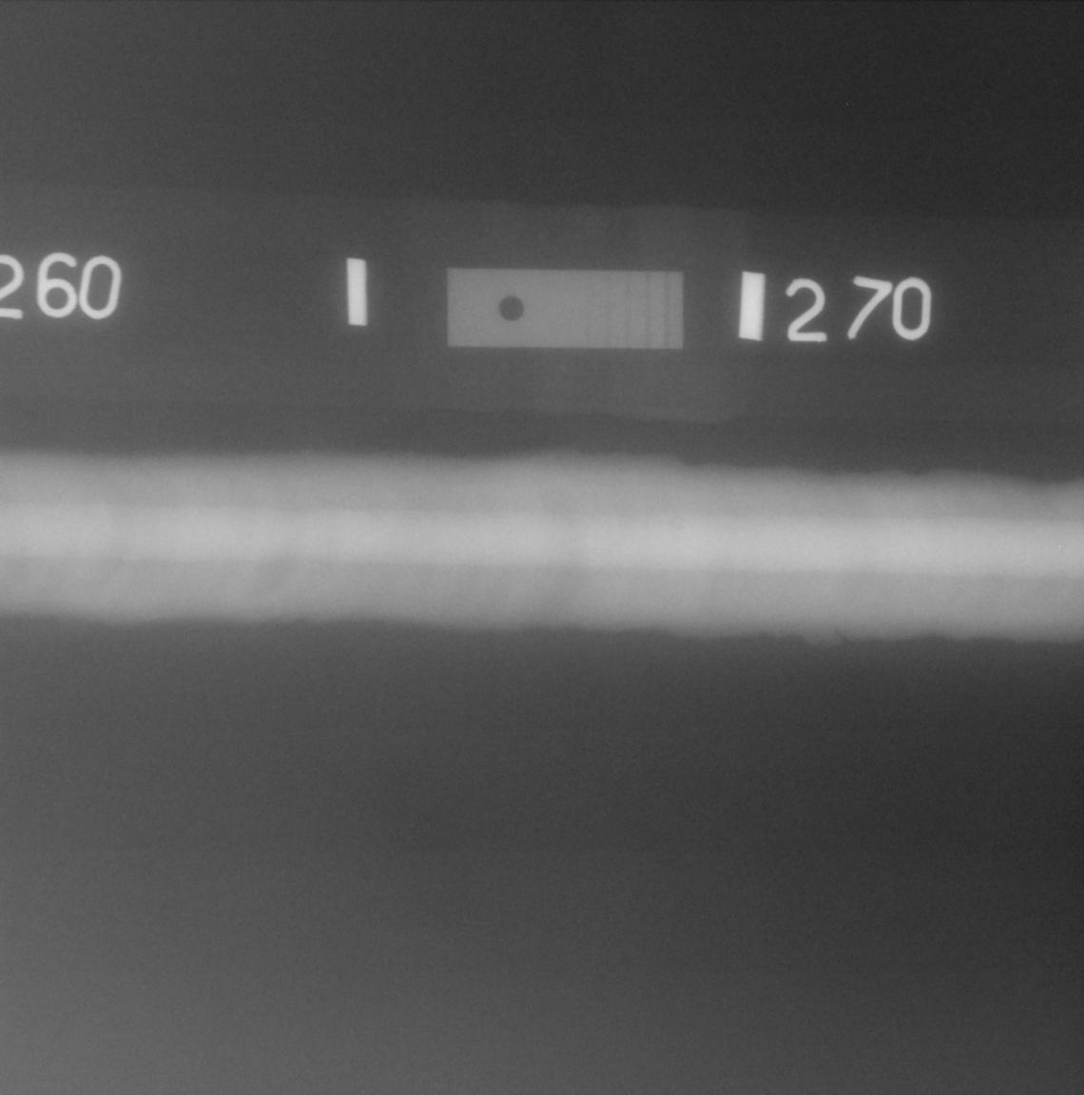Inclusion: (668, 515, 688, 531)
Reference Standard 1: (447, 268, 683, 350)
